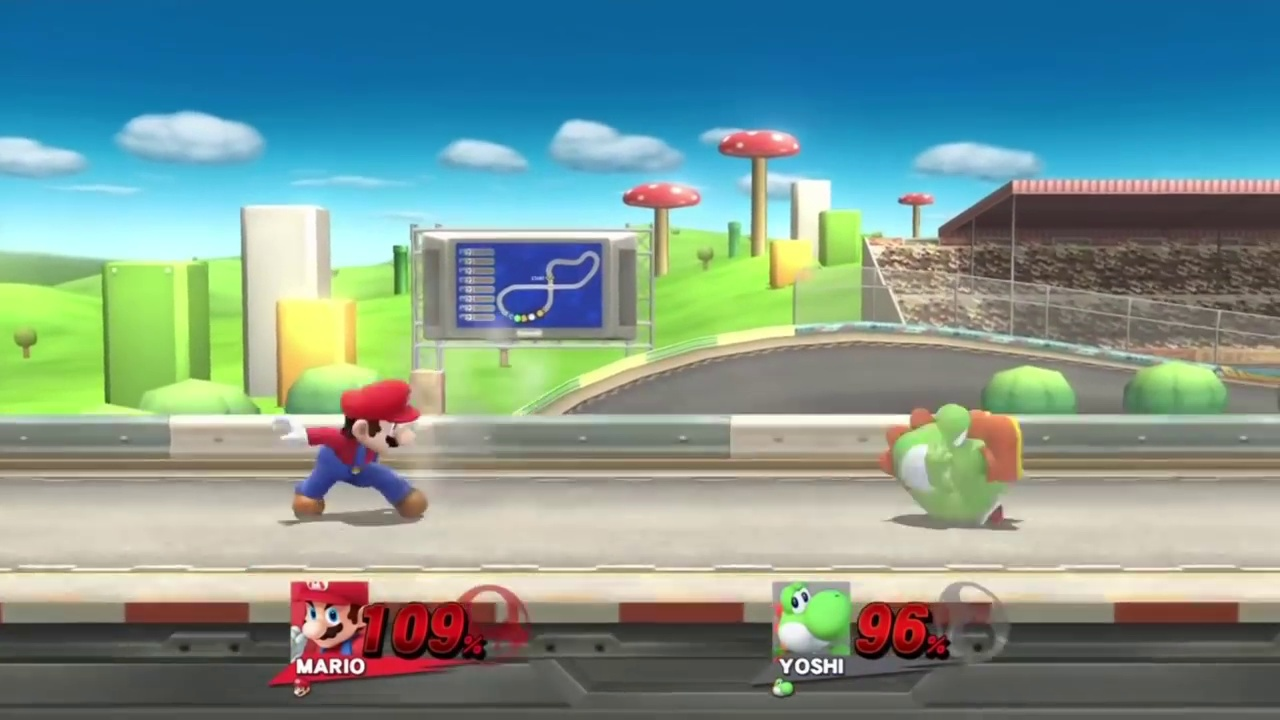Mario: (274, 380, 426, 521)
